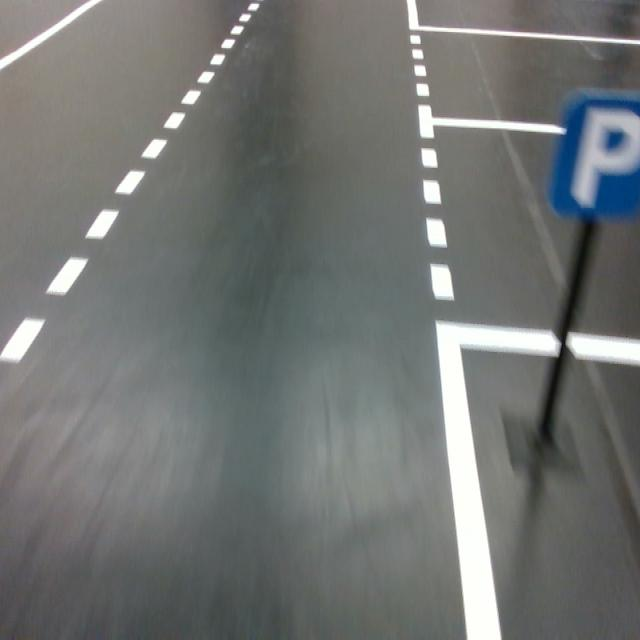parking-sign: (549, 89, 640, 220)
